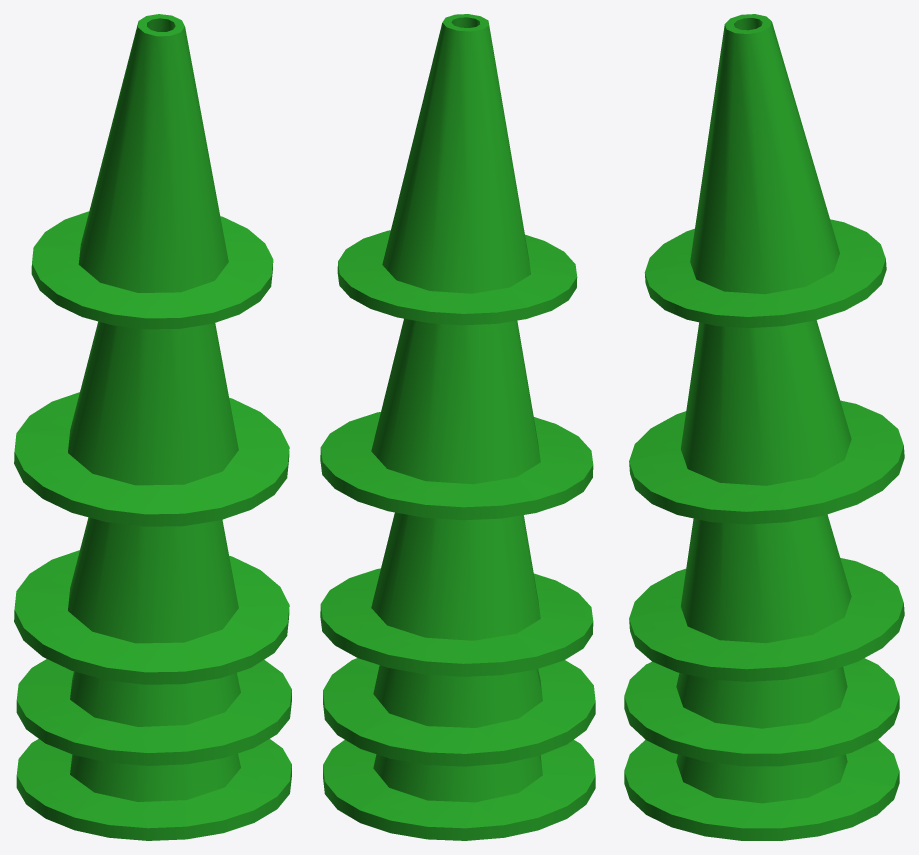
File: 073_Cones.fbx
3 renders of one model, left to right at view 1: azimuth 30°, elevation 25°; view 2: azimuth 150°, elevation 25°; view 3: azimuth 270°, elevation 25°, orthographic.
Parts seen in each view (by area): view 1: Cones; view 2: Cones; view 3: Cones.
Part boxes in pixels (x1,y1,x2,y2): Cones: (14, 14, 291, 840); Cones: (320, 14, 595, 840); Cones: (624, 14, 904, 840).
Bounding box in the file's own units: 54.82 × 169 × 56.42.
